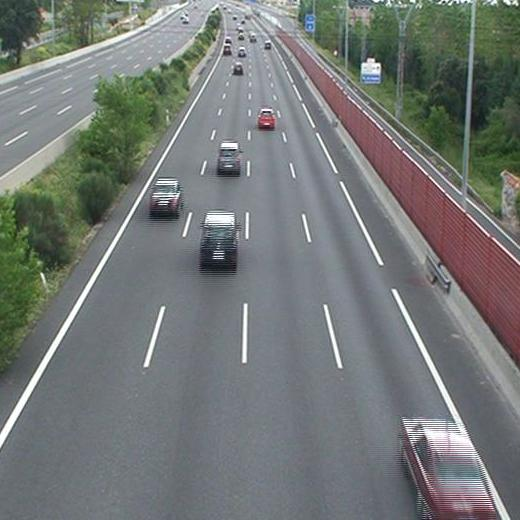car: (404, 419, 497, 520), (200, 214, 238, 265), (151, 179, 182, 213), (218, 143, 241, 171), (258, 109, 275, 127), (233, 63, 243, 74), (223, 45, 232, 53), (263, 40, 270, 49), (238, 48, 245, 55)
